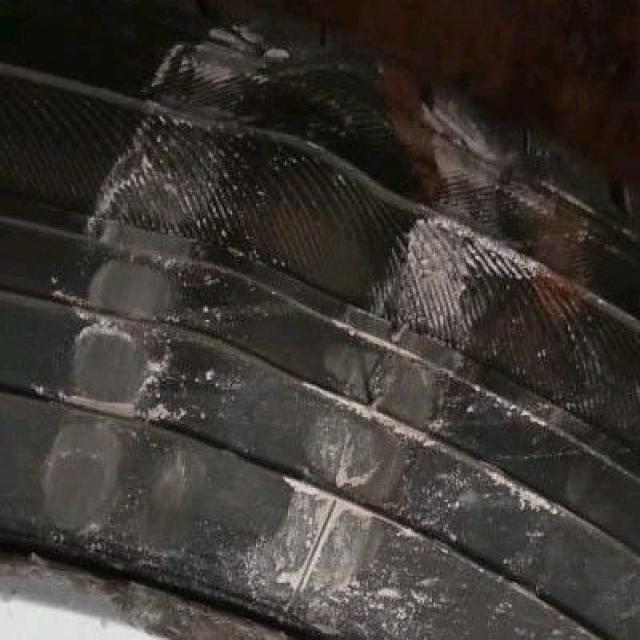Bulge: (56, 13, 477, 590)
